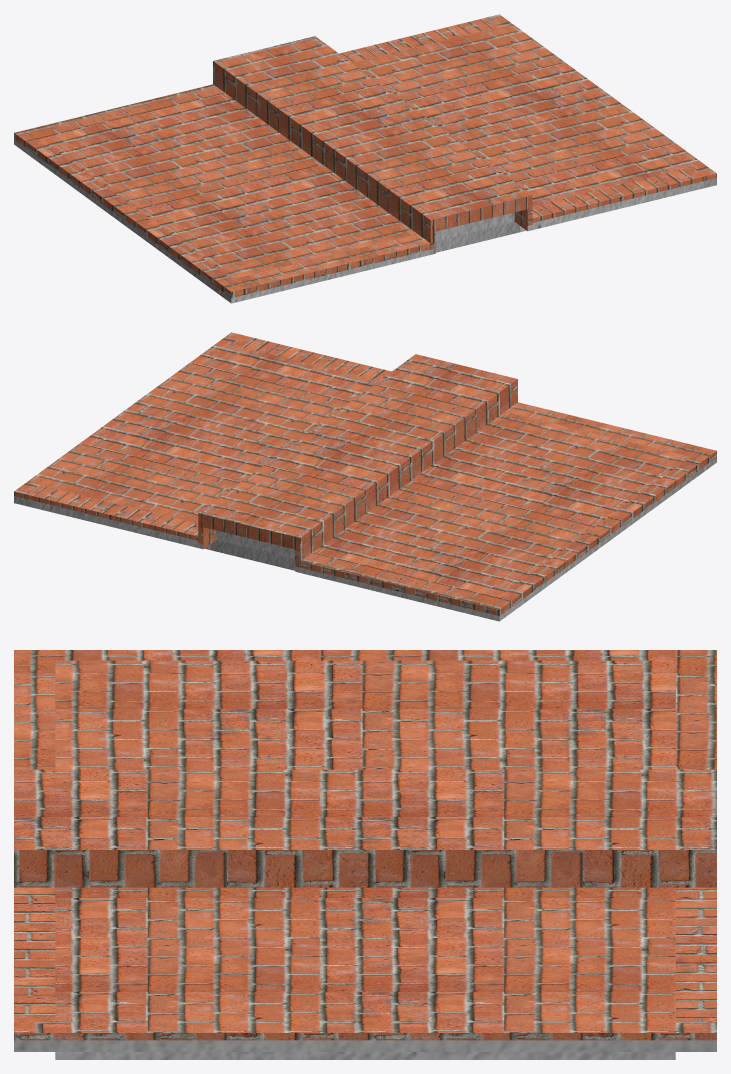
The model's file is Techo_Piso.obj.
3 views of the same model, one above another, from view 1: azimuth 30°, elevation 25°; view 2: azimuth 150°, elevation 25°; view 3: azimuth 270°, elevation 25° (orthographic). The views are drawn at different scales.
Parts seen in each view (by area): view 1: pCube3; view 2: pCube3; view 3: pCube3.
Boxes of the visible parts, x1,y1,x2,y2 form: pCube3: [14, 14, 716, 303]; pCube3: [14, 332, 716, 621]; pCube3: [14, 650, 716, 1059].
Bounding box in the file's own units: 10.93 × 1 × 8.48.
2 materials, 2 textured.
